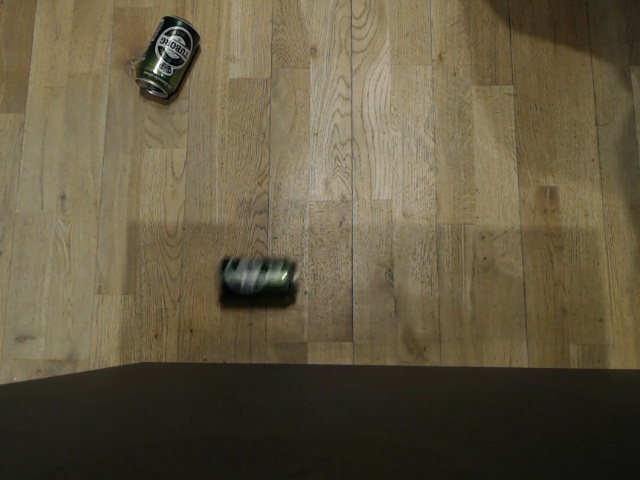beer: (132, 13, 202, 100), (211, 254, 302, 311)
